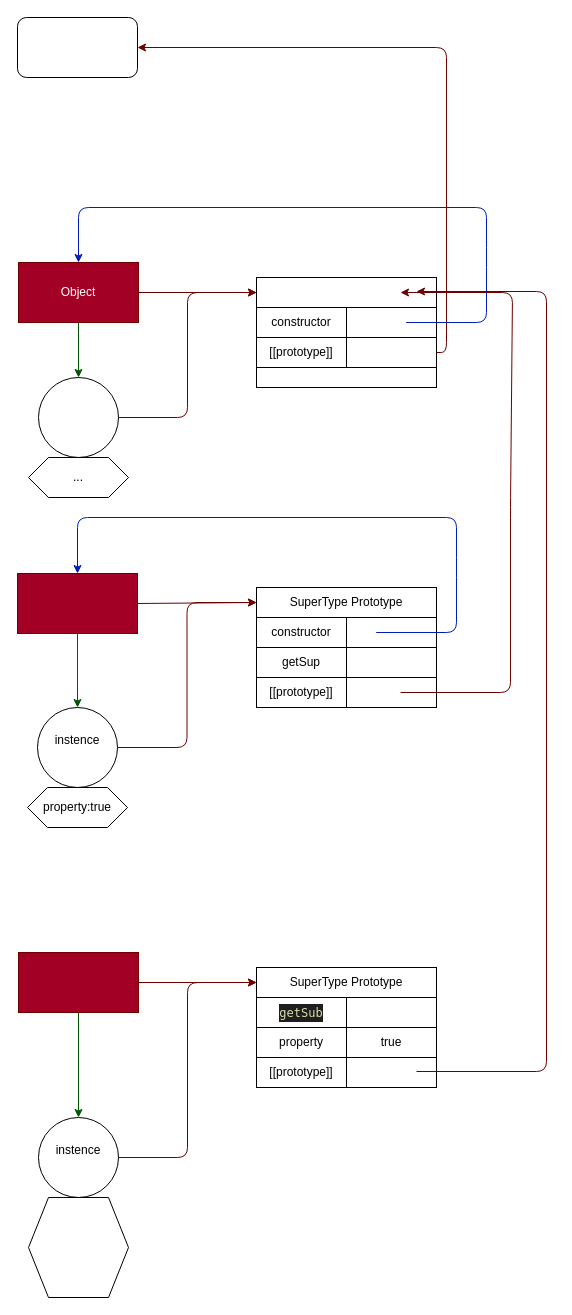
Some shapes in this 572 by 1315 pixel diagram are drawn without their labels. Each missing label, with the centre of its shape:
"instence Object" belongs at pixel 78 417.
"null" belongs at pixel 77 47.
"Object Prototype" belongs at pixel 346 292.
"subProperty:true friends:[1,2]" belongs at pixel 78 1247.
"SubType" belongs at pixel 78 982.
"SuperType" belongs at pixel 77 603.
